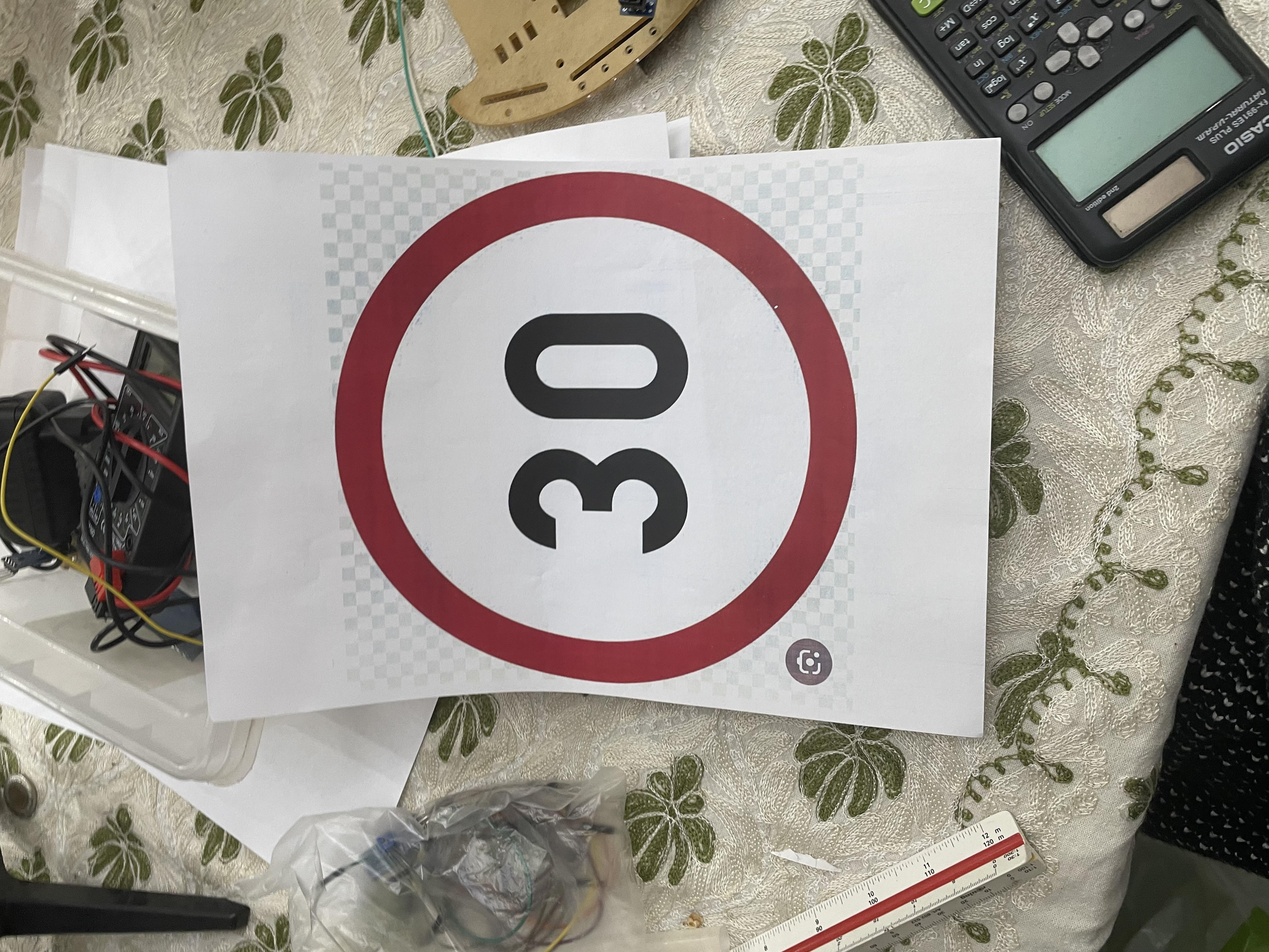30-speed: (348, 248, 1051, 649)
